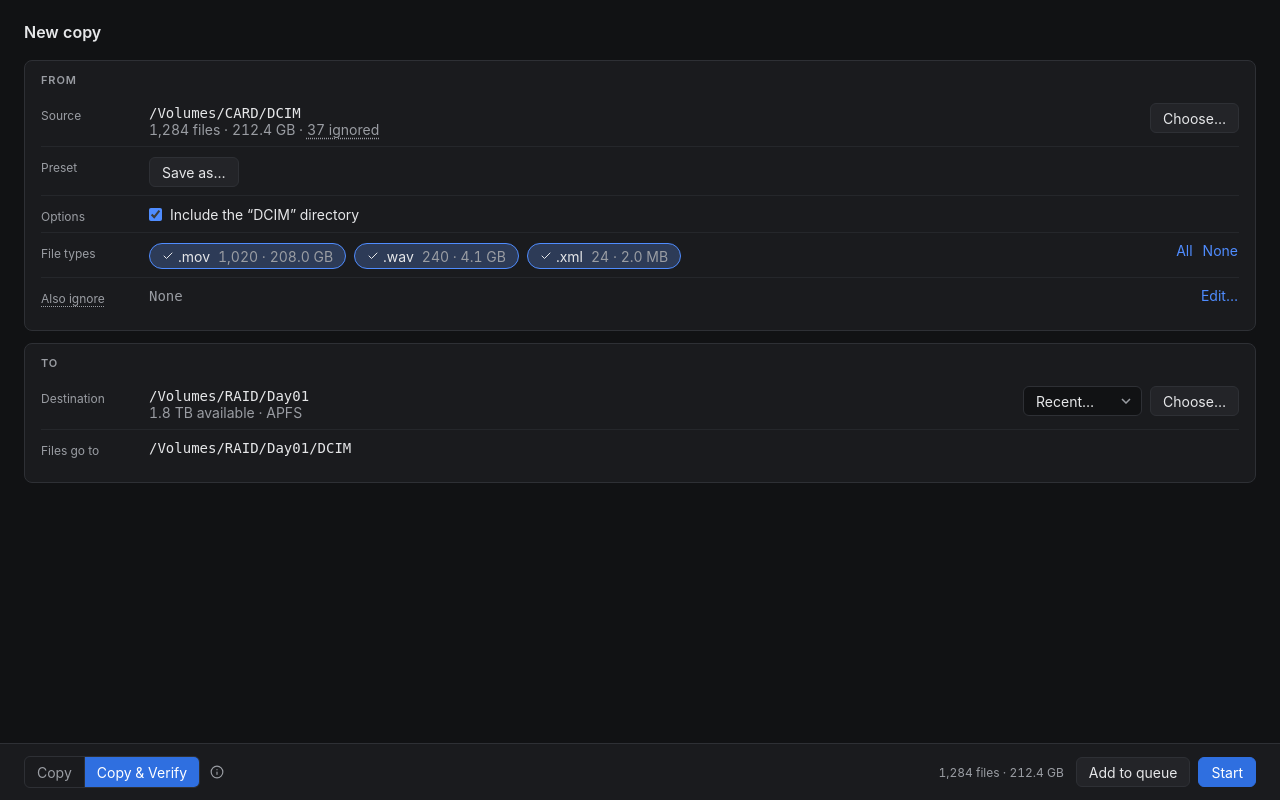
Test: Setup › answers that arrive out of order show the newest, not the last (#138)
Select "/Volumes/A" in the dropdown named "Recent destinations". click: (1082, 401)
box: [1023, 386, 1142, 416]
Select "/Volumes/B" in the dropdown named "Recent destinations". click: (1082, 401)
box: [1023, 386, 1142, 416]
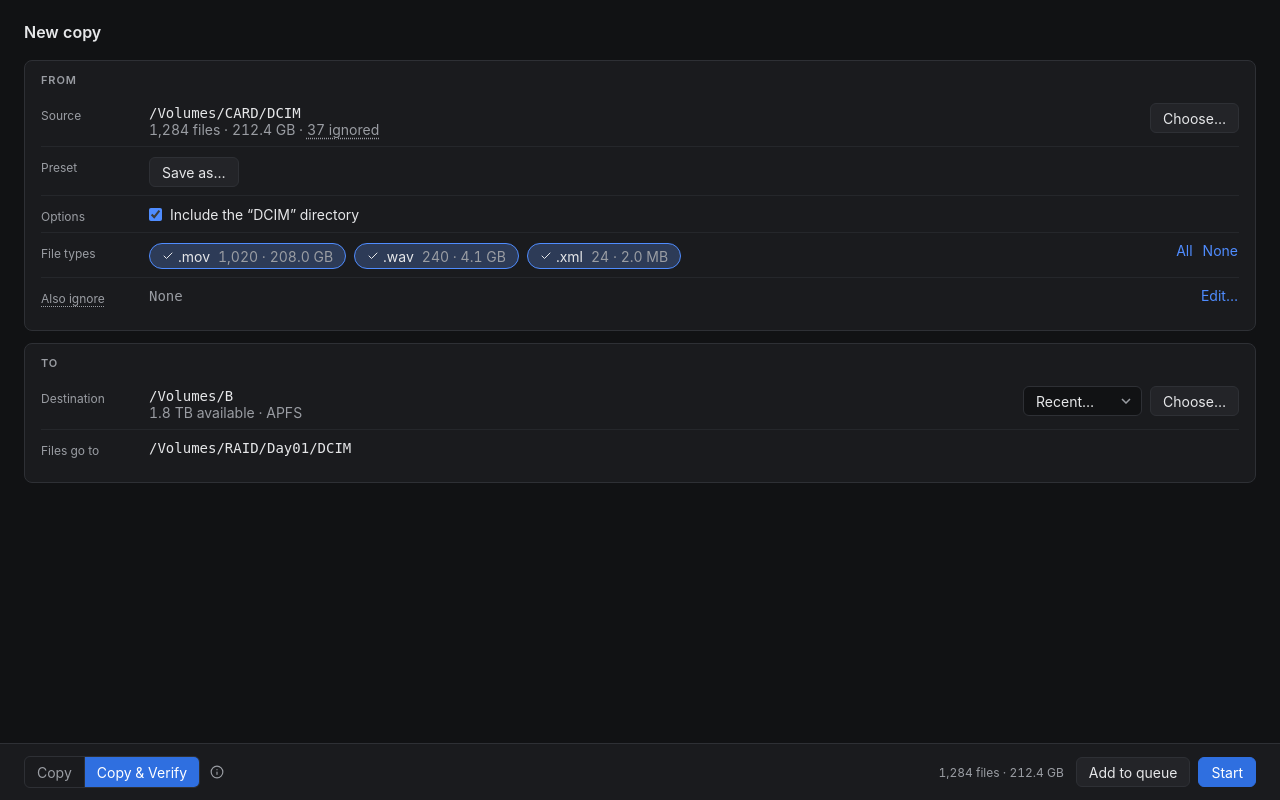
expect the text "/Volumes/B" is shown: met, box [149, 388, 233, 404]
